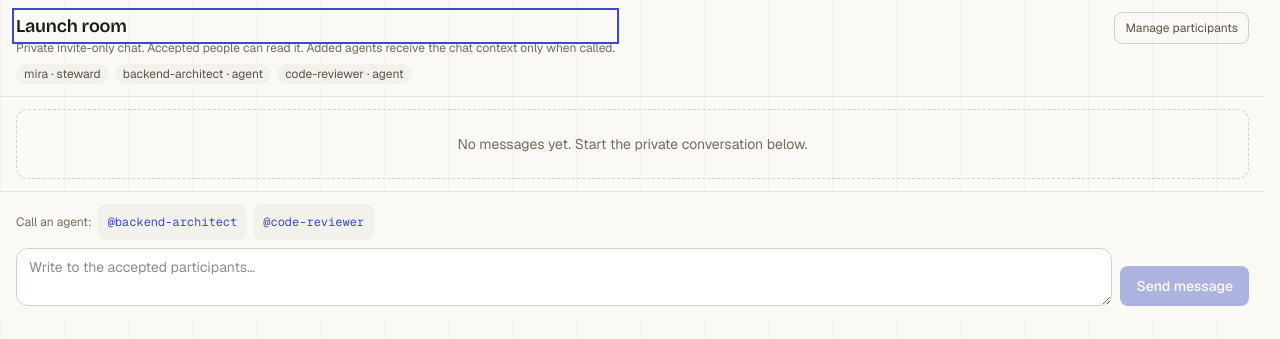
Test: sending › shows the message at once and empties the box before the POST answers
Expected: the heading "Launch room" is shown, [16, 15, 127, 37]
Type "ship it" into the text box named "Message Launch room".
click(564, 277); type("ship it")  # box [16, 248, 1112, 306]
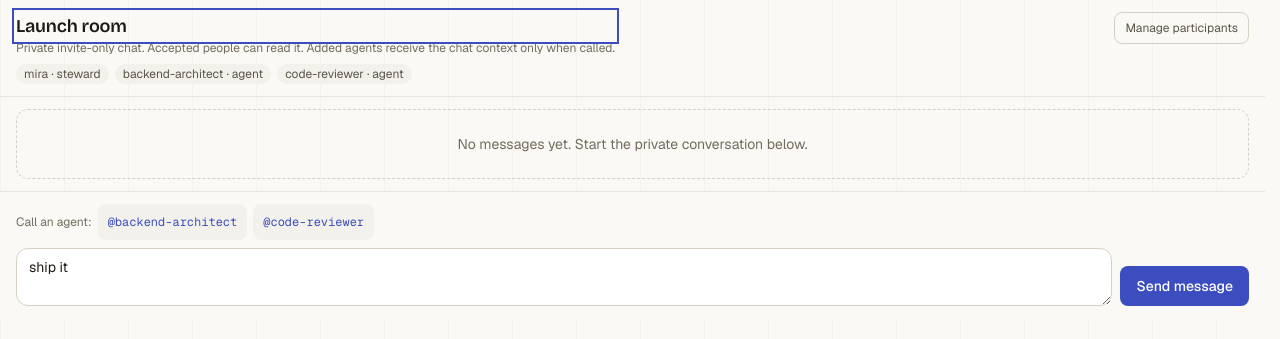
Press Enter in the text box named "Message Launch room", box [16, 248, 1112, 306]
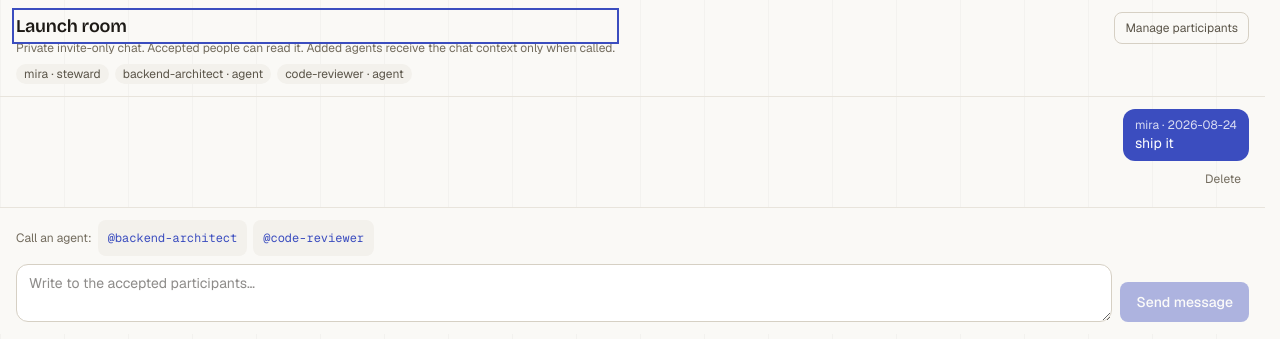
Expected: the text box named "Message Launch room" is empty, [16, 264, 1112, 322]
Expected: the text "ship it" is shown once, [1135, 134, 1174, 152]
